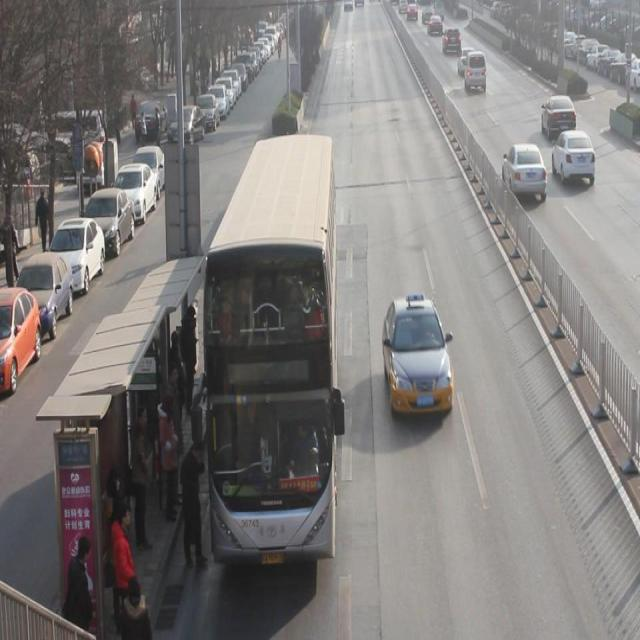car: (381, 292, 455, 418), (502, 143, 548, 202), (551, 129, 597, 186), (540, 93, 578, 137), (441, 26, 463, 56), (458, 45, 477, 77), (427, 13, 444, 36), (406, 1, 419, 20)
truck: (462, 51, 488, 92)
van: (206, 131, 338, 550)
